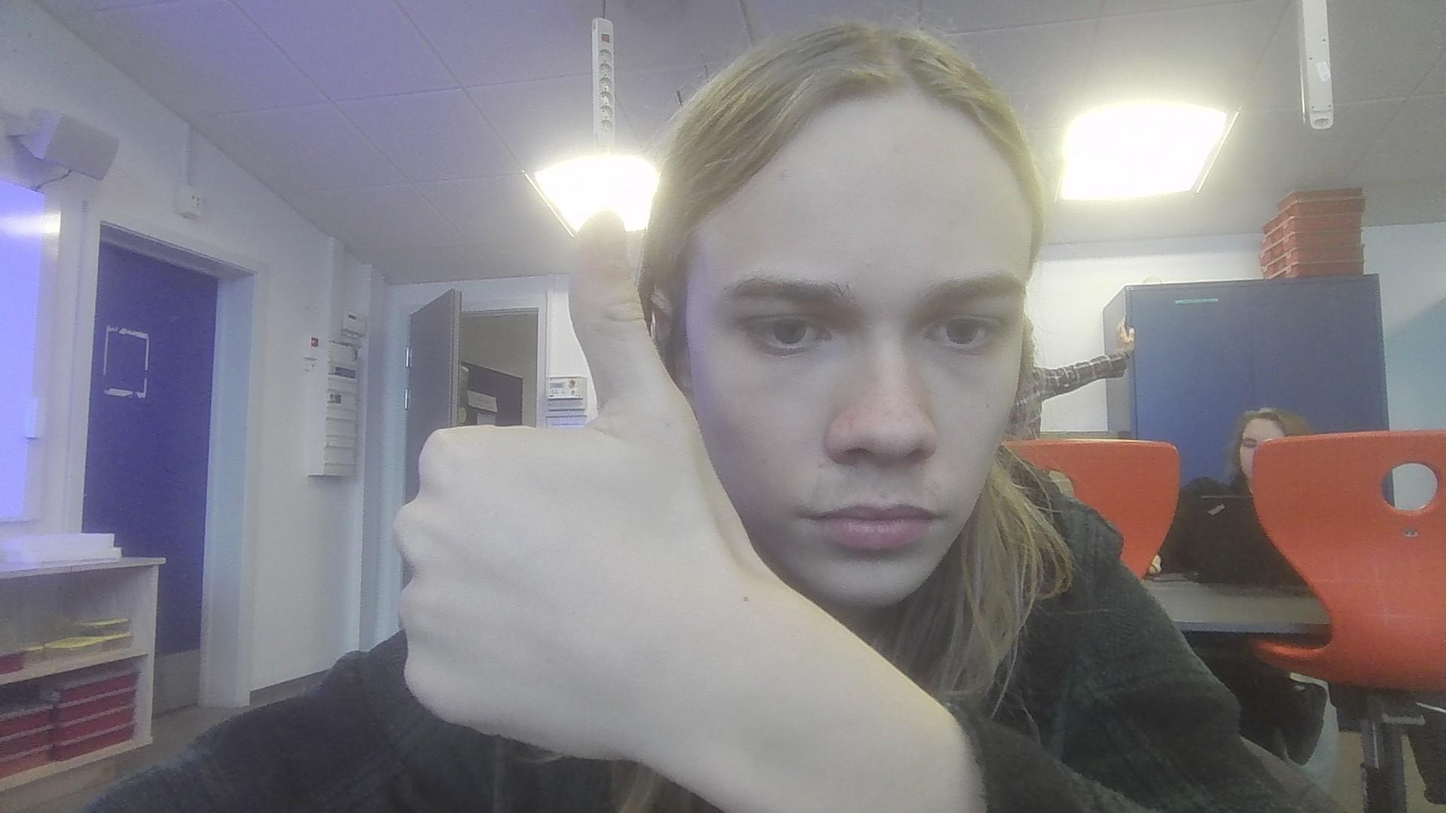thumbs up: (403, 206, 777, 778)
